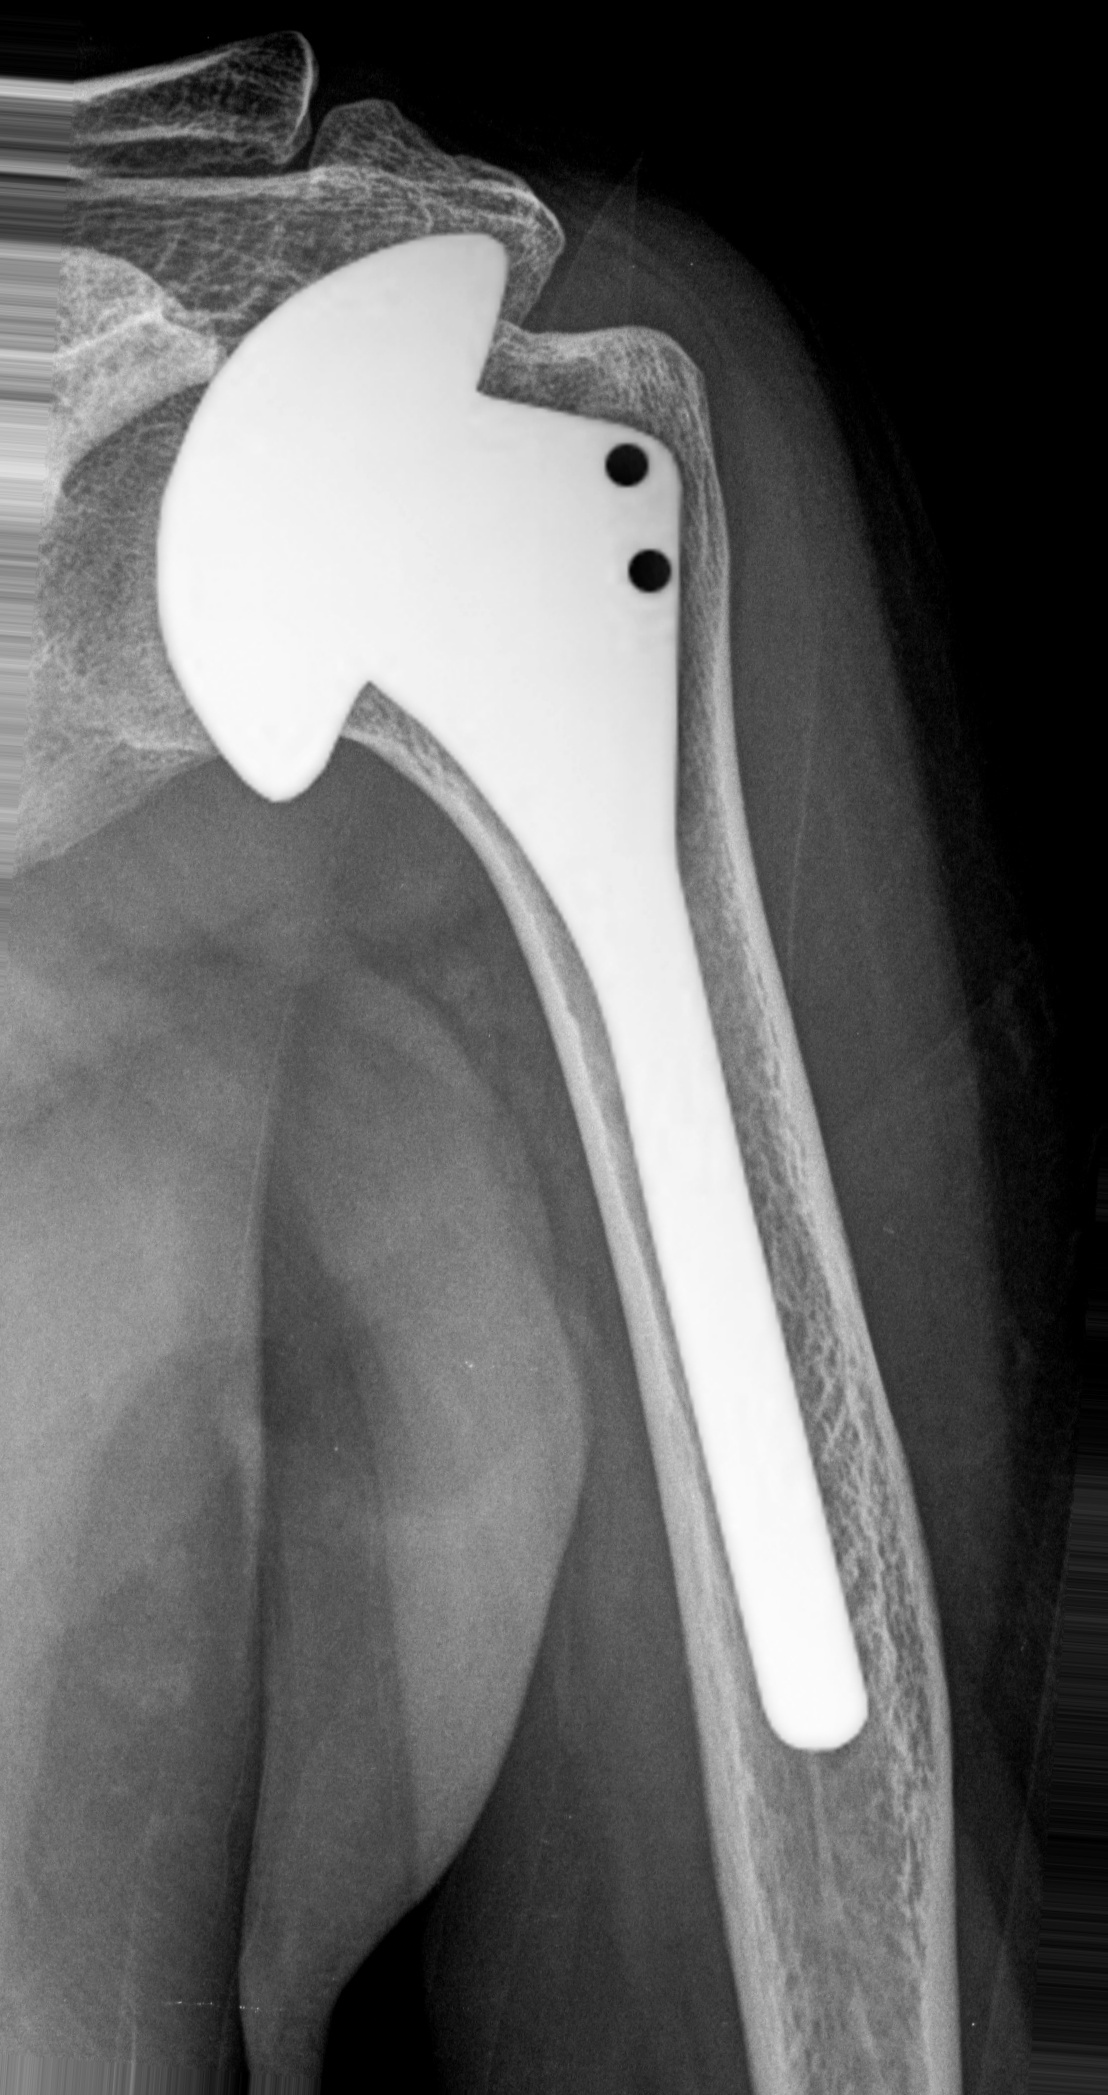Shoulder - Aequalishead - Tornier: (109, 188, 510, 823)
Shoulder - Aequalistail - Tornier: (262, 220, 709, 917)
